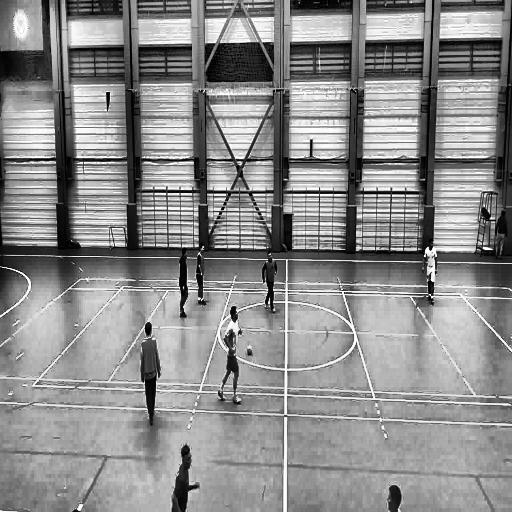ball: (246, 343, 254, 359)
player: (217, 304, 243, 410), (139, 322, 162, 428), (261, 246, 280, 316), (422, 235, 440, 308), (195, 242, 209, 309), (178, 247, 190, 321)
